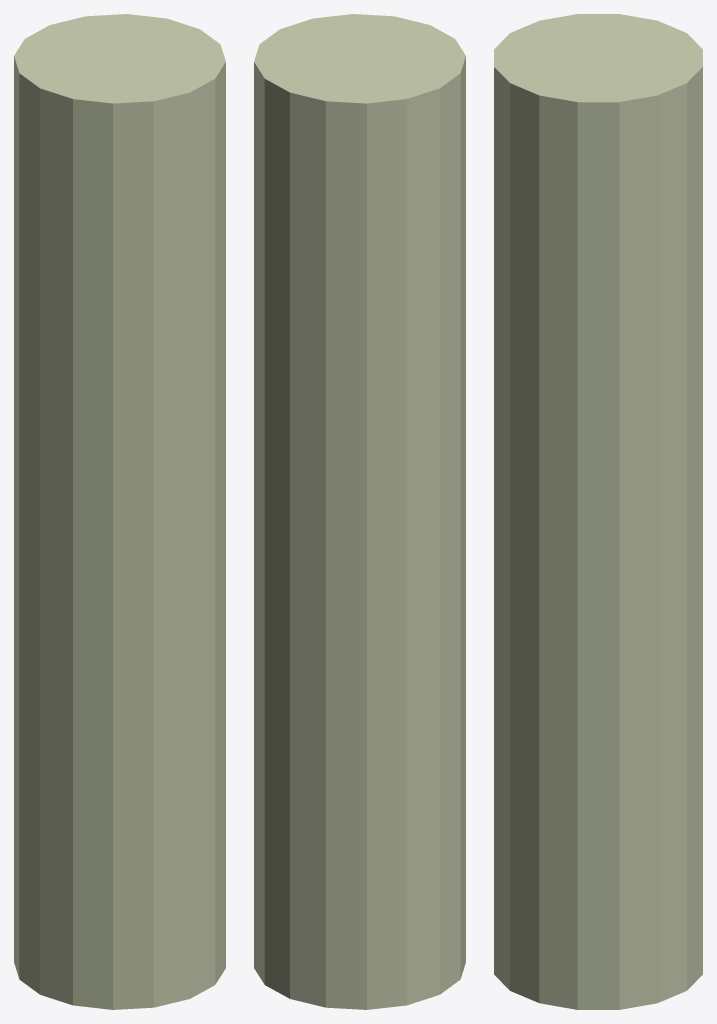
The model's file is RLV_LFO_1_Collider.obj.
3 renders of one model, left to right at view 1: azimuth 30°, elevation 25°; view 2: azimuth 150°, elevation 25°; view 3: azimuth 270°, elevation 25°, orthographic.
Parts seen in each view (by area): view 1: RLV_LFO_1_Collider; view 2: RLV_LFO_1_Collider; view 3: RLV_LFO_1_Collider.
Boxes of the visible parts, x1=… form: RLV_LFO_1_Collider: x1=14, y1=14, x2=225, y2=1009; RLV_LFO_1_Collider: x1=254, y1=14, x2=465, y2=1009; RLV_LFO_1_Collider: x1=494, y1=14, x2=702, y2=1009.
Bounding box in the file's own units: 5 × 24 × 5.
